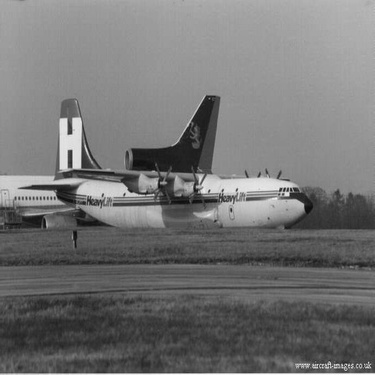airplane: (1, 86, 331, 244)
